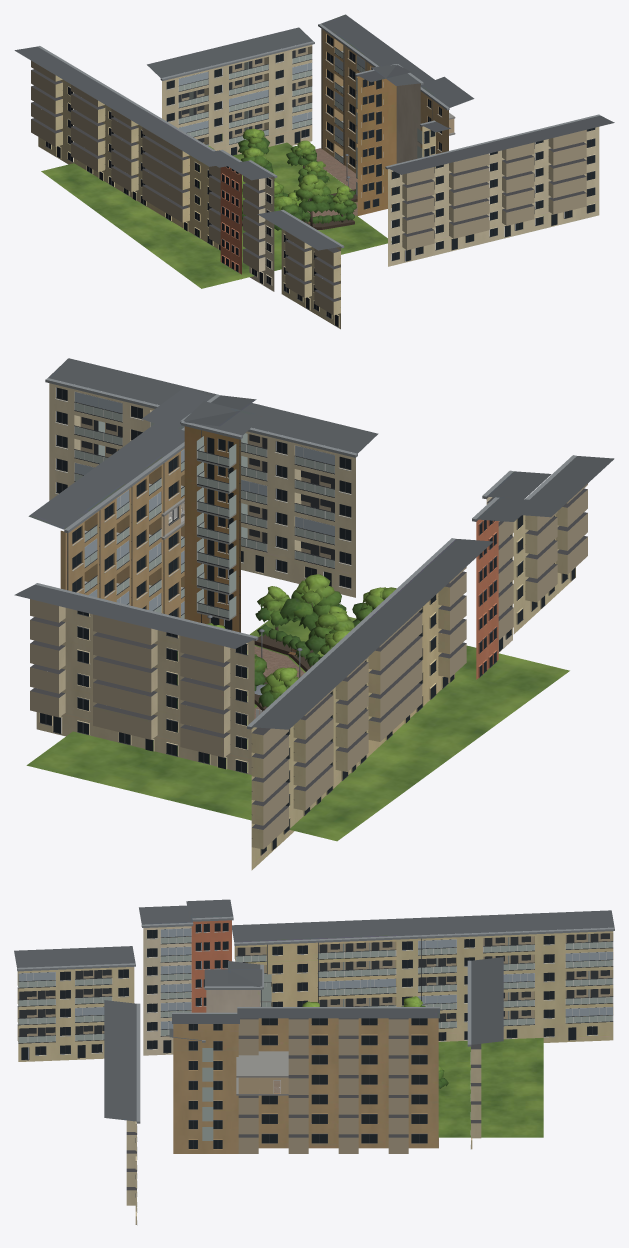
File: apartment.glb
3 renders of one model, top to bottom at view 1: azimuth 30°, elevation 25°; view 2: azimuth 150°, elevation 25°; view 3: azimuth 270°, elevation 25°, orthographic. The views are drawn at different scales.
Visible parts, largest first — view 1: BAKED_far, BAKED_outside, Courtyard_Block_far_glass, Courtyard_Block_far_panels, Courtyard_Block_near_glass, Courtyard_Block_far_fascia, Courtyard_Block_far_frames, Courtyard_Block_far_doorframes, Courtyard_Block_far_glazing, Courtyard_Block_far_rails, Courtyard_Block_near_frames, Courtyard_Block_near_fascia (+4 smaller); view 2: BAKED_far, BAKED_outside, Courtyard_Block_far_glass, Courtyard_Block_far_panels, Courtyard_Block_near_glass, Courtyard_Block_far_fascia, Courtyard_Block_near_panels, Courtyard_Block_far_doorframes, Courtyard_Block_far_frames, Courtyard_Block_far_glazing, Courtyard_Block_near_dividers, Courtyard_Block_near_rails (+8 smaller); view 3: BAKED_far, BAKED_outside, Courtyard_Block_far_panels, Courtyard_Block_far_doorframes, Courtyard_Block_near_glass, Courtyard_Block_far_glass, Courtyard_Block_far_glazing, Courtyard_Block_far_fascia, Courtyard_Block_far_rails, BAKED_shell, Courtyard_Block_far_posts, Courtyard_Block_near_frames (+4 smaller).
Part boxes in pixels (x1=…): BAKED_far: x1=14, y1=27, x2=614, y2=329; BAKED_outside: x1=41, y1=14, x2=474, y2=288; Courtyard_Block_far_glass: x1=45, y1=53, x2=594, y2=326; Courtyard_Block_far_panels: x1=179, y1=54, x2=311, y2=145; Courtyard_Block_near_glass: x1=327, y1=34, x2=441, y2=209; Courtyard_Block_far_fascia: x1=37, y1=41, x2=600, y2=248; Courtyard_Block_far_frames: x1=45, y1=53, x2=595, y2=327; Courtyard_Block_far_doorframes: x1=178, y1=48, x2=534, y2=238; Courtyard_Block_far_glazing: x1=179, y1=63, x2=311, y2=132; Courtyard_Block_far_rails: x1=105, y1=53, x2=312, y2=153; Courtyard_Block_near_frames: x1=327, y1=42, x2=441, y2=209; Courtyard_Block_near_fascia: x1=318, y1=23, x2=449, y2=126; BAKED_far: x1=14, y1=358, x2=614, y2=870; BAKED_outside: x1=26, y1=387, x2=569, y2=841; Courtyard_Block_far_glass: x1=40, y1=388, x2=575, y2=854; Courtyard_Block_far_panels: x1=75, y1=402, x2=334, y2=567; Courtyard_Block_near_glass: x1=72, y1=437, x2=233, y2=629; Courtyard_Block_far_fascia: x1=35, y1=378, x2=576, y2=729; Courtyard_Block_near_panels: x1=85, y1=446, x2=228, y2=618; Courtyard_Block_far_doorframes: x1=81, y1=413, x2=334, y2=559; Courtyard_Block_far_frames: x1=40, y1=387, x2=575, y2=855; Courtyard_Block_far_glazing: x1=74, y1=392, x2=334, y2=536; Courtyard_Block_near_dividers: x1=196, y1=436, x2=236, y2=618; Courtyard_Block_near_rails: x1=84, y1=445, x2=229, y2=618; BAKED_far: x1=14, y1=899, x2=614, y2=1224; BAKED_outside: x1=169, y1=961, x2=543, y2=1153; Courtyard_Block_far_panels: x1=18, y1=936, x2=612, y2=1042; Courtyard_Block_far_doorframes: x1=19, y1=928, x2=609, y2=1036; Courtyard_Block_near_glass: x1=189, y1=1018, x2=427, y2=1148; Courtyard_Block_far_glass: x1=21, y1=923, x2=597, y2=1059; Courtyard_Block_far_glazing: x1=18, y1=928, x2=612, y2=1029; Courtyard_Block_far_fascia: x1=17, y1=916, x2=614, y2=1123; Courtyard_Block_far_rails: x1=18, y1=936, x2=613, y2=1043; BAKED_shell: x1=236, y1=1051, x2=288, y2=1095; Courtyard_Block_far_posts: x1=18, y1=928, x2=613, y2=1042; Courtyard_Block_near_frames: x1=188, y1=1018, x2=427, y2=1148.
Bounding box in the file's own units: 68.2 × 25.85 × 82.75.
54 materials, 12 textured.
